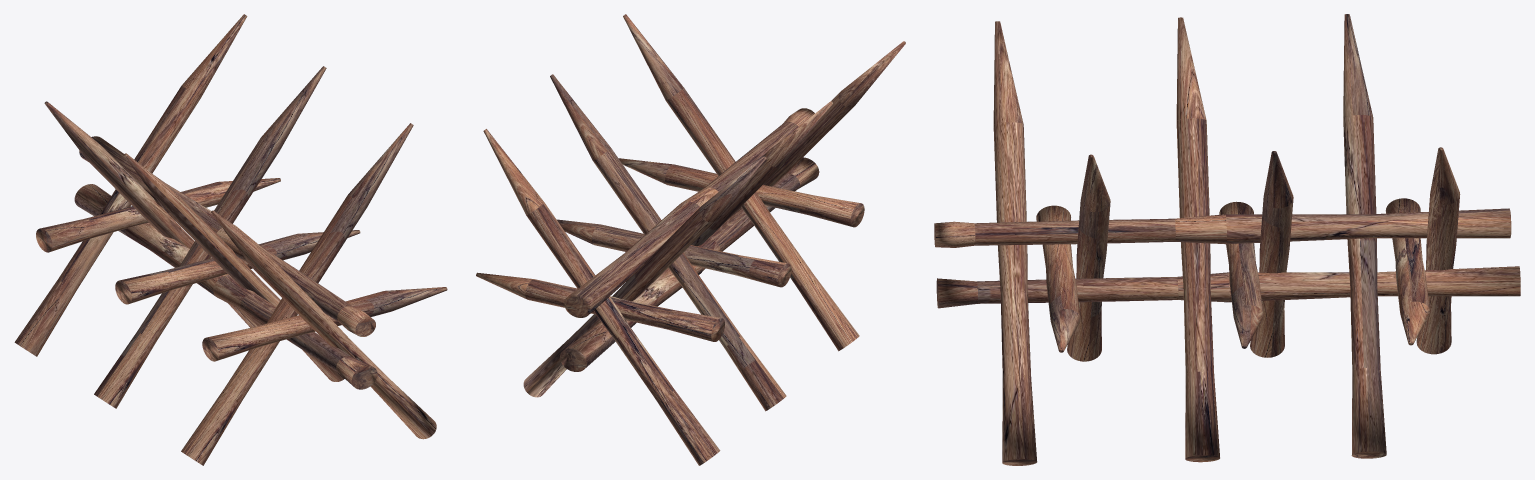
The model's file is Barreira 2.fbx.
3 views of the same model, side by side, from view 1: azimuth 30°, elevation 25°; view 2: azimuth 150°, elevation 25°; view 3: azimuth 270°, elevation 25° (orthographic). The views are drawn at different scales.
Visible parts, largest first — view 1: Cylinder.018; view 2: Cylinder.018; view 3: Cylinder.018.
Part boxes in pixels (<box>): Cylinder.018: <box>14,14,447,465</box>; Cylinder.018: <box>476,14,905,465</box>; Cylinder.018: <box>934,14,1520,465</box>.
Size of the model in its own units: 404 by 402 by 653.
Materials: 1 (1 with a texture image).
